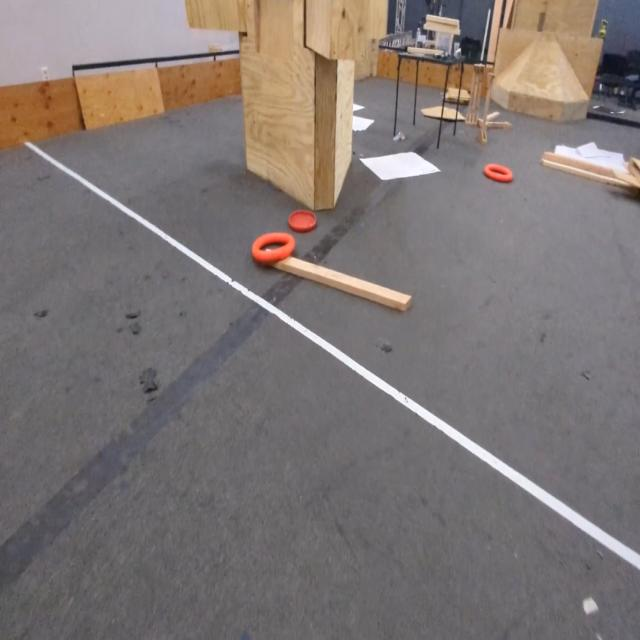note: (253, 232, 296, 265), (482, 163, 513, 185)
